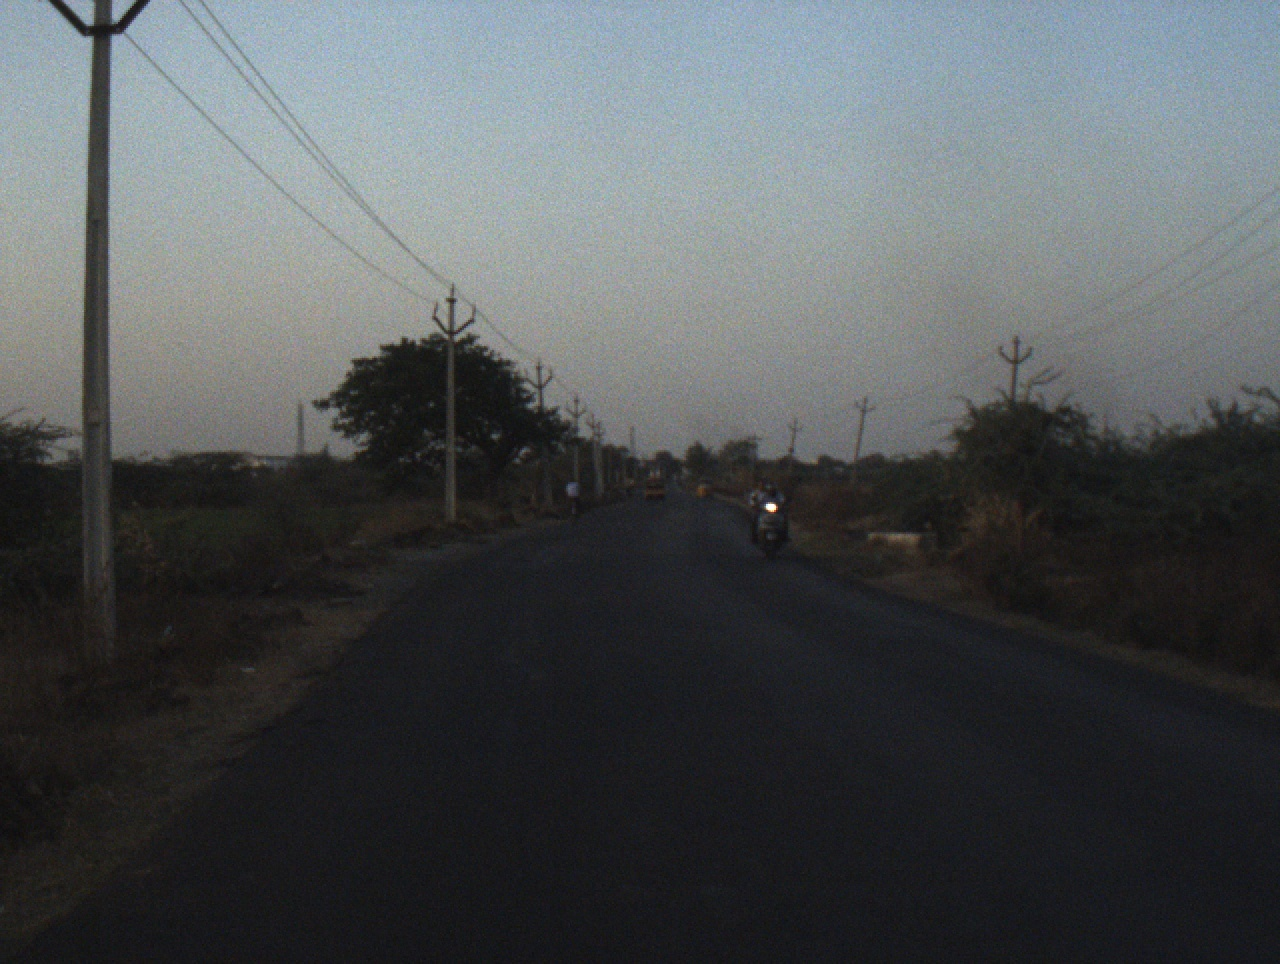autorickshaw: (641, 471, 671, 501), (693, 475, 715, 500)
bicycle: (568, 501, 585, 522)
motorcycle: (746, 495, 797, 562)
rider: (752, 482, 791, 550), (747, 480, 763, 542), (566, 475, 581, 505)
